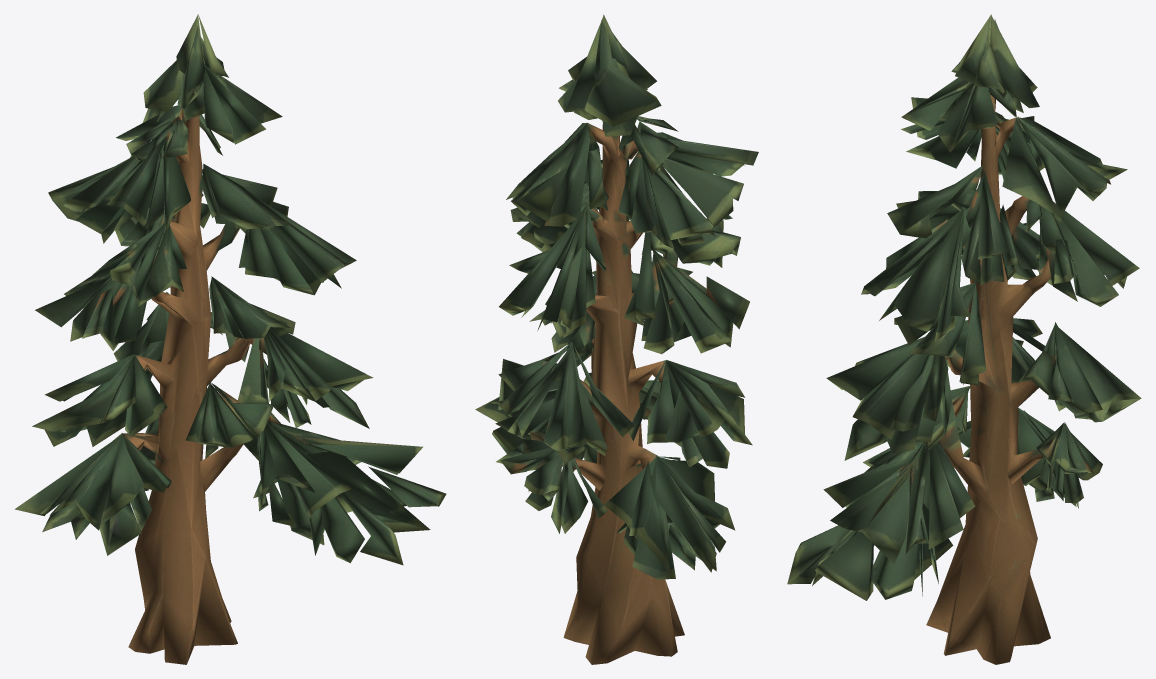
Rendered from AW-TREE-004-v0.2.glb.
3 views of the same model, side by side, from view 1: azimuth 30°, elevation 25°; view 2: azimuth 150°, elevation 25°; view 3: azimuth 270°, elevation 25° (orthographic). The views are drawn at different scales.
Visible parts, largest first — view 1: AW-TREE-004_meter_ground_pivot; view 2: AW-TREE-004_meter_ground_pivot; view 3: AW-TREE-004_meter_ground_pivot.
Boxes of the visible parts, <box> form: AW-TREE-004_meter_ground_pivot: <box>14,14,446,664</box>; AW-TREE-004_meter_ground_pivot: <box>475,14,758,664</box>; AW-TREE-004_meter_ground_pivot: <box>787,14,1141,664</box>.
Size of the model in its own units: 2.8 by 4.8 by 2.44.
1 material, 1 textured.
